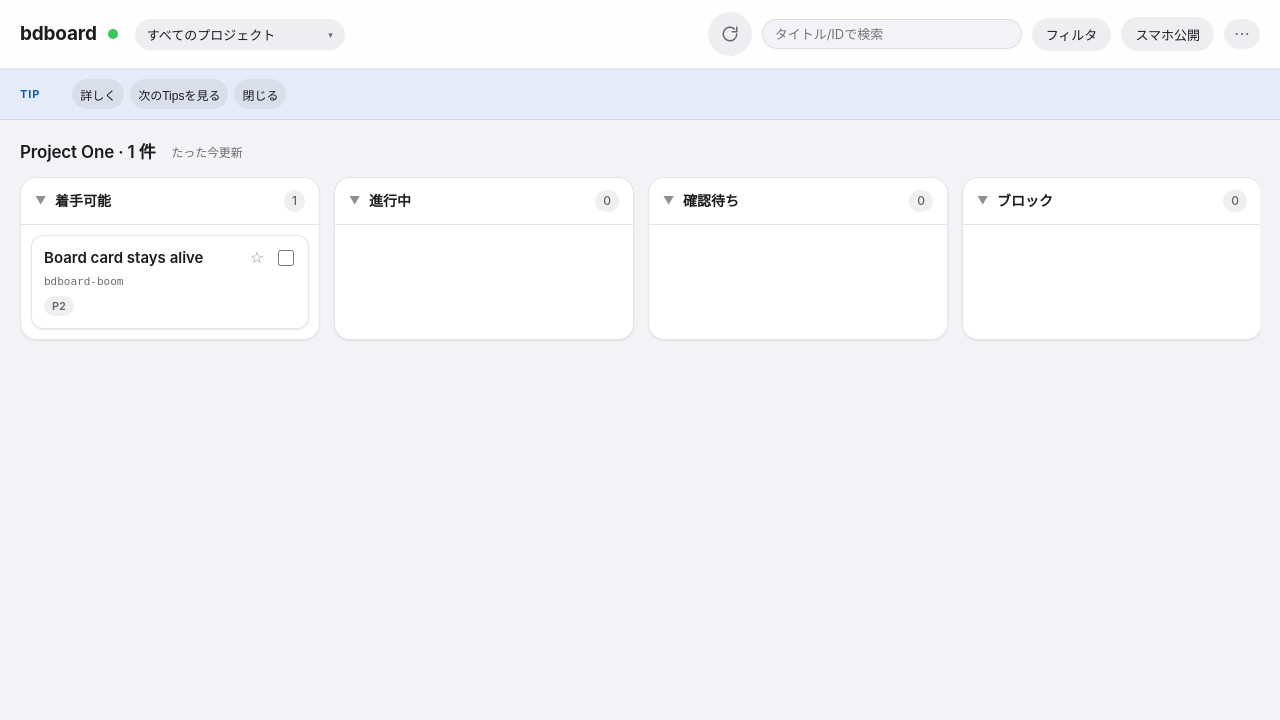
Test: App bulk action bar visibility (bdboard-ml0k) › shows the bar in the split view (the only board view)
Expected: the text "1件選択中" is not shown
Click the checkbox named "bdboard-boom を選択". click: (286, 258)
box: [278,250,294,266]
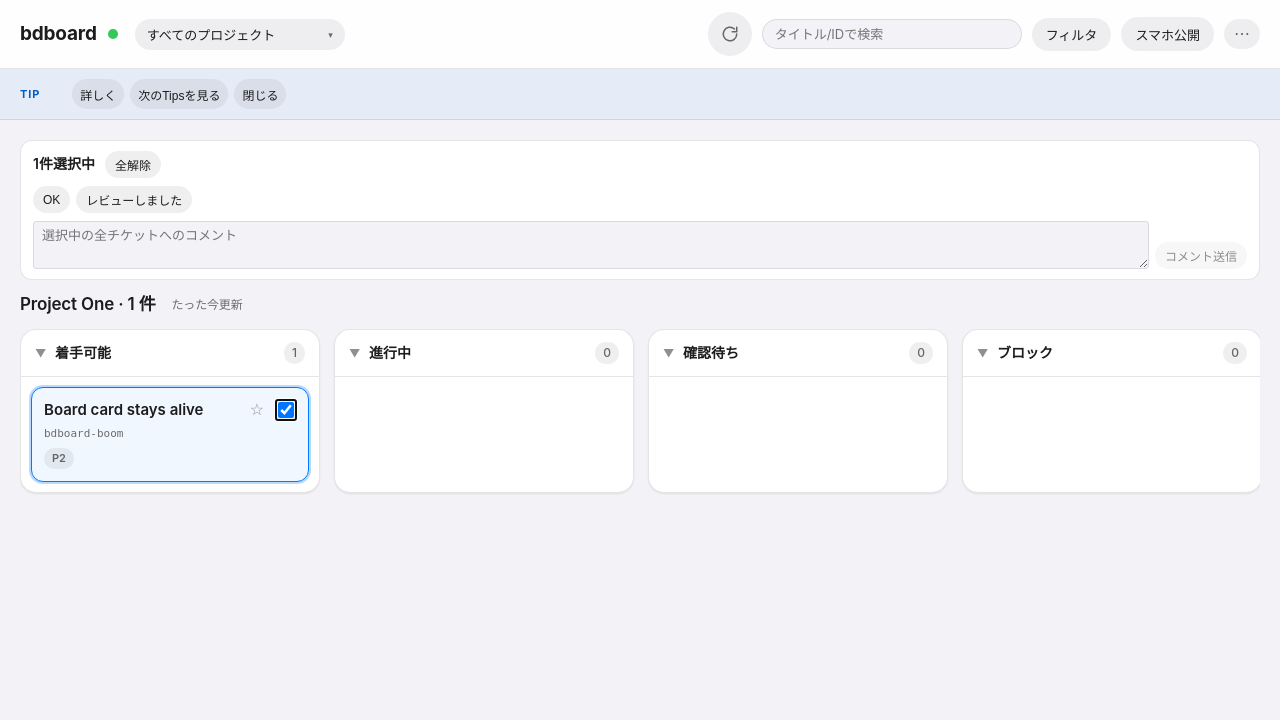
Now the text "1件選択中" is shown, box [33,154,95,175]
Now the button "全解除" is shown, box [105,151,161,178]
